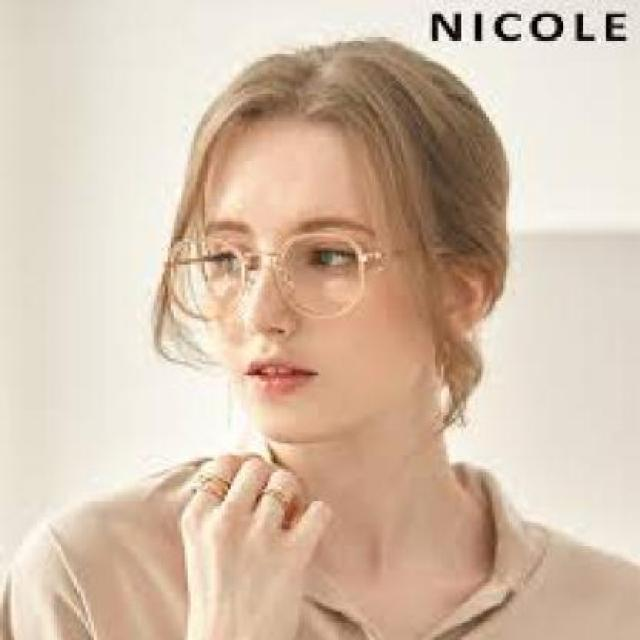glasses: (152, 218, 394, 322)
